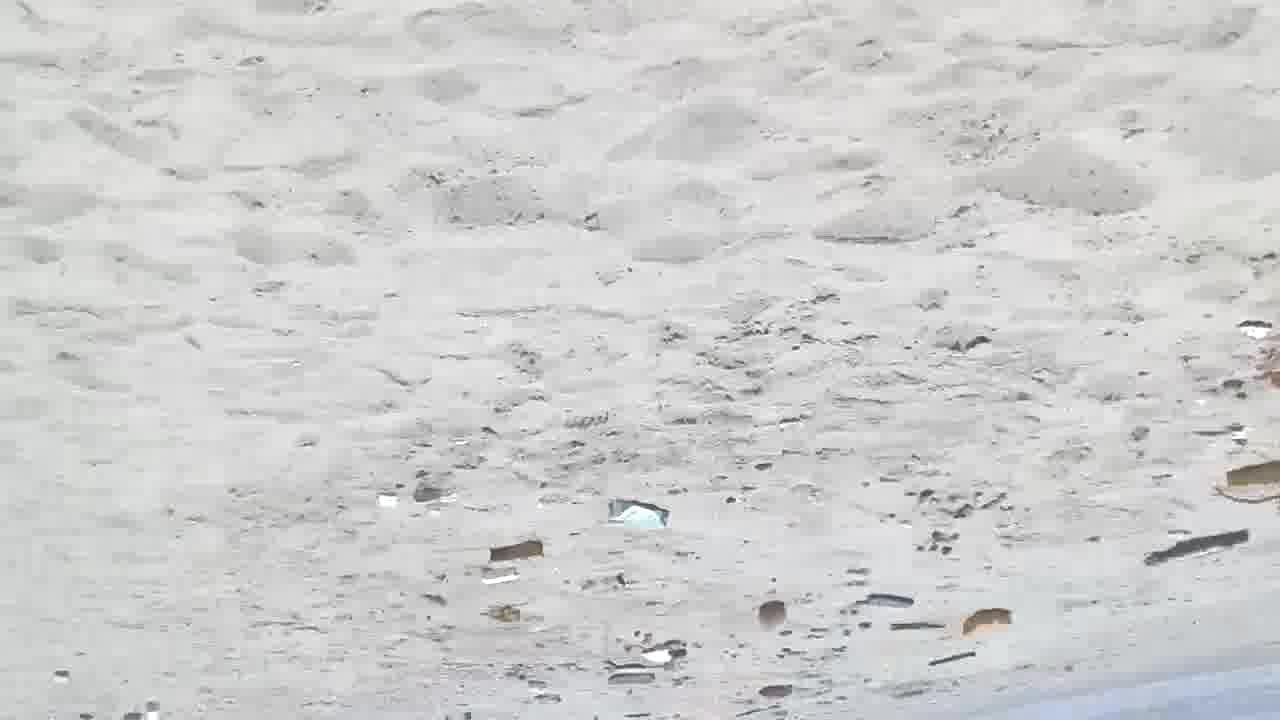obj: (1137, 520, 1253, 572), (604, 497, 678, 533), (848, 586, 926, 614), (486, 538, 549, 571), (410, 484, 457, 526), (1221, 457, 1278, 490), (958, 607, 1013, 641), (744, 597, 791, 634), (922, 647, 979, 672), (748, 676, 798, 701), (601, 674, 669, 691), (884, 620, 953, 632)
sand/background: (882, 591, 1279, 719)
